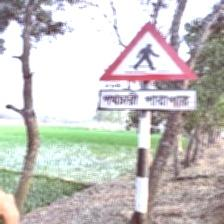Pedestrian-crossing: (98, 21, 199, 114)
